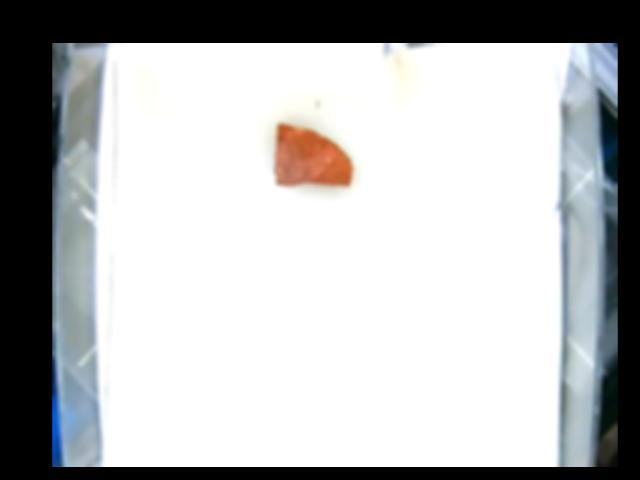Brisk: (272, 120, 356, 188)
